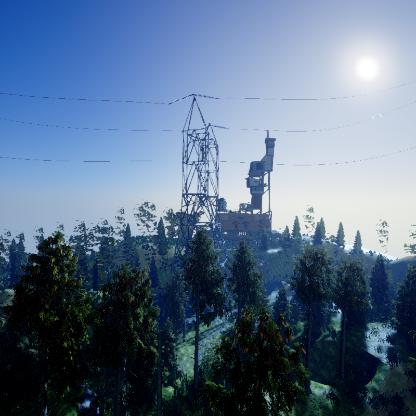tower: (179, 95, 222, 264)
